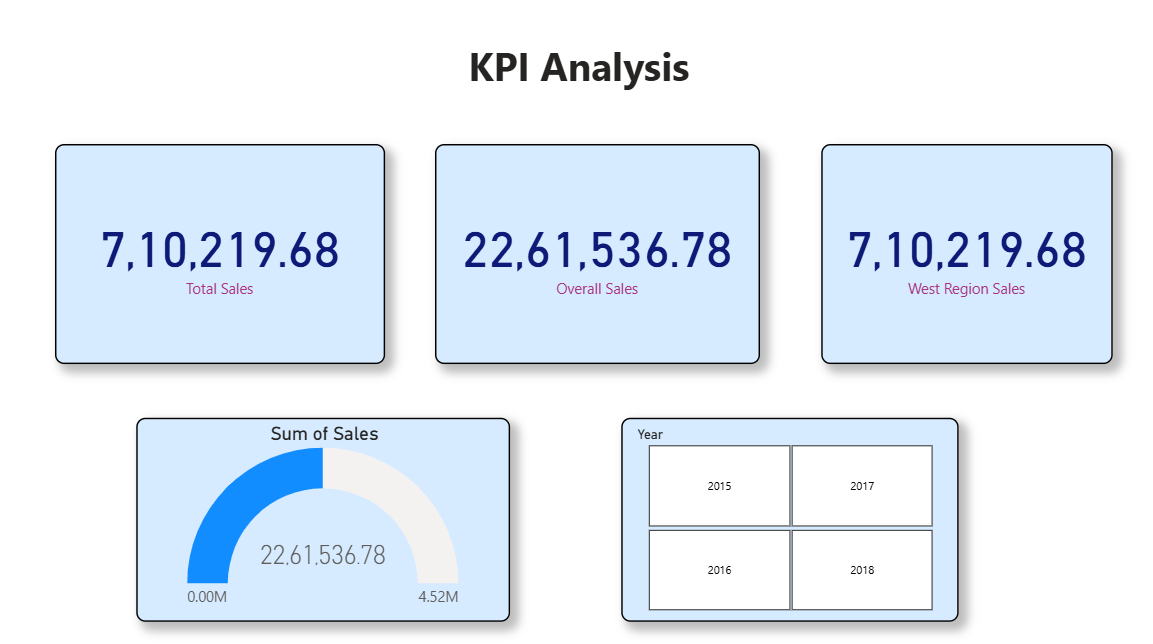

This screenshot's page, from the dashboard's own definition file:
{"tool":"powerbi","page":{"name":"Page 1","canvas":[1280,720],"ordinal":3},"visuals":[{"type":"gauge","fields":{"Y":["Sum(SalesData.Sales)"]},"box":[87.8,396.6,279.9,274.4],"z":0},{"type":"slicer","fields":{"Values":["SalesData.Year"]},"box":[76.8,34.3,300.5,300.5],"z":1000},{"type":"card","fields":{"Values":["Sum(SalesData.Sales)"]},"box":[434.9,34.9,314,300],"z":2000},{"type":"card","fields":{"Values":["MeassuresTable.sumOfSalesOfWest"]},"box":[862.8,34.9,280.2,300],"z":3000},{"type":"card","fields":{"Values":["Sum(SalesData.Sales)"]},"box":[469.8,396.5,279.1,274.4],"z":4000}]}

Visuals, with their boxes in screenshot pixels (x1, y1, x2, y2), scaled from the page's 1280x720 canvas onto the 1153x644 screenshot:
gauge - Sum(SalesData.Sales): bbox(79, 355, 331, 600)
slicer - SalesData.Year: bbox(69, 31, 340, 299)
card - Sum(SalesData.Sales): bbox(392, 31, 675, 300)
card - MeassuresTable.sumOfSalesOfWest: bbox(777, 31, 1030, 300)
card - Sum(SalesData.Sales): bbox(423, 355, 675, 600)
